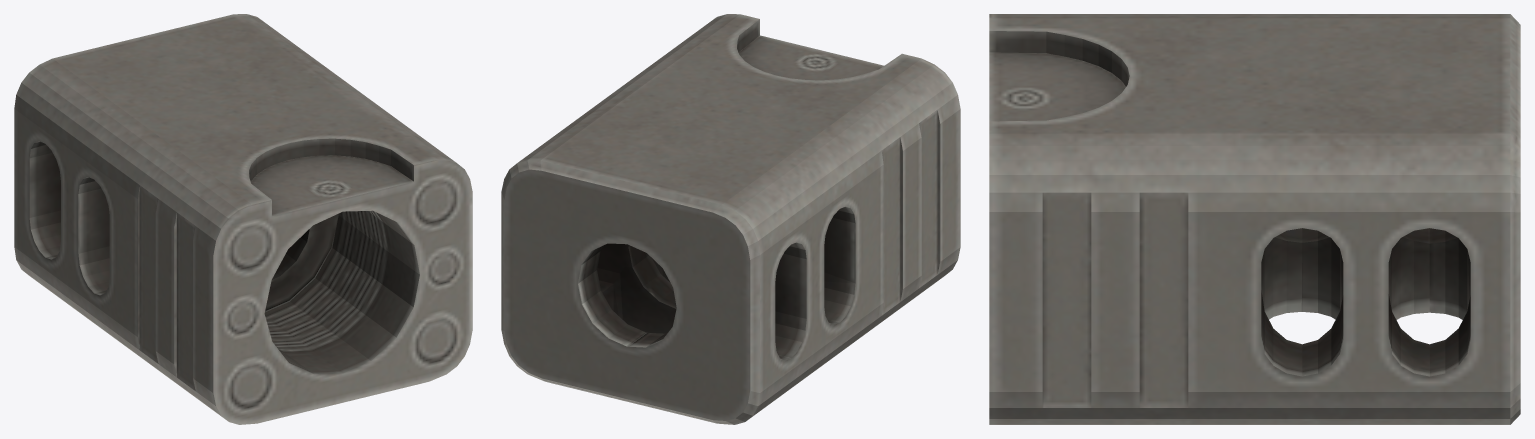
3 views of the same model, side by side, from view 1: azimuth 30°, elevation 25°; view 2: azimuth 150°, elevation 25°; view 3: azimuth 270°, elevation 25° (orthographic). The views are drawn at different scales.
Parts seen in each view (by area): view 1: TW_5a70366c8dc32e001207fb06_PZ_Import; view 2: TW_5a70366c8dc32e001207fb06_PZ_Import; view 3: TW_5a70366c8dc32e001207fb06_PZ_Import.
Part boxes in pixels (x1=…): TW_5a70366c8dc32e001207fb06_PZ_Import: x1=14, y1=14, x2=472, y2=424; TW_5a70366c8dc32e001207fb06_PZ_Import: x1=501, y1=14, x2=960, y2=424; TW_5a70366c8dc32e001207fb06_PZ_Import: x1=989, y1=14, x2=1520, y2=424.
Bounding box in the file's own units: 0.0144 × 0.0196 × 0.0117.
1 material, 1 textured.
